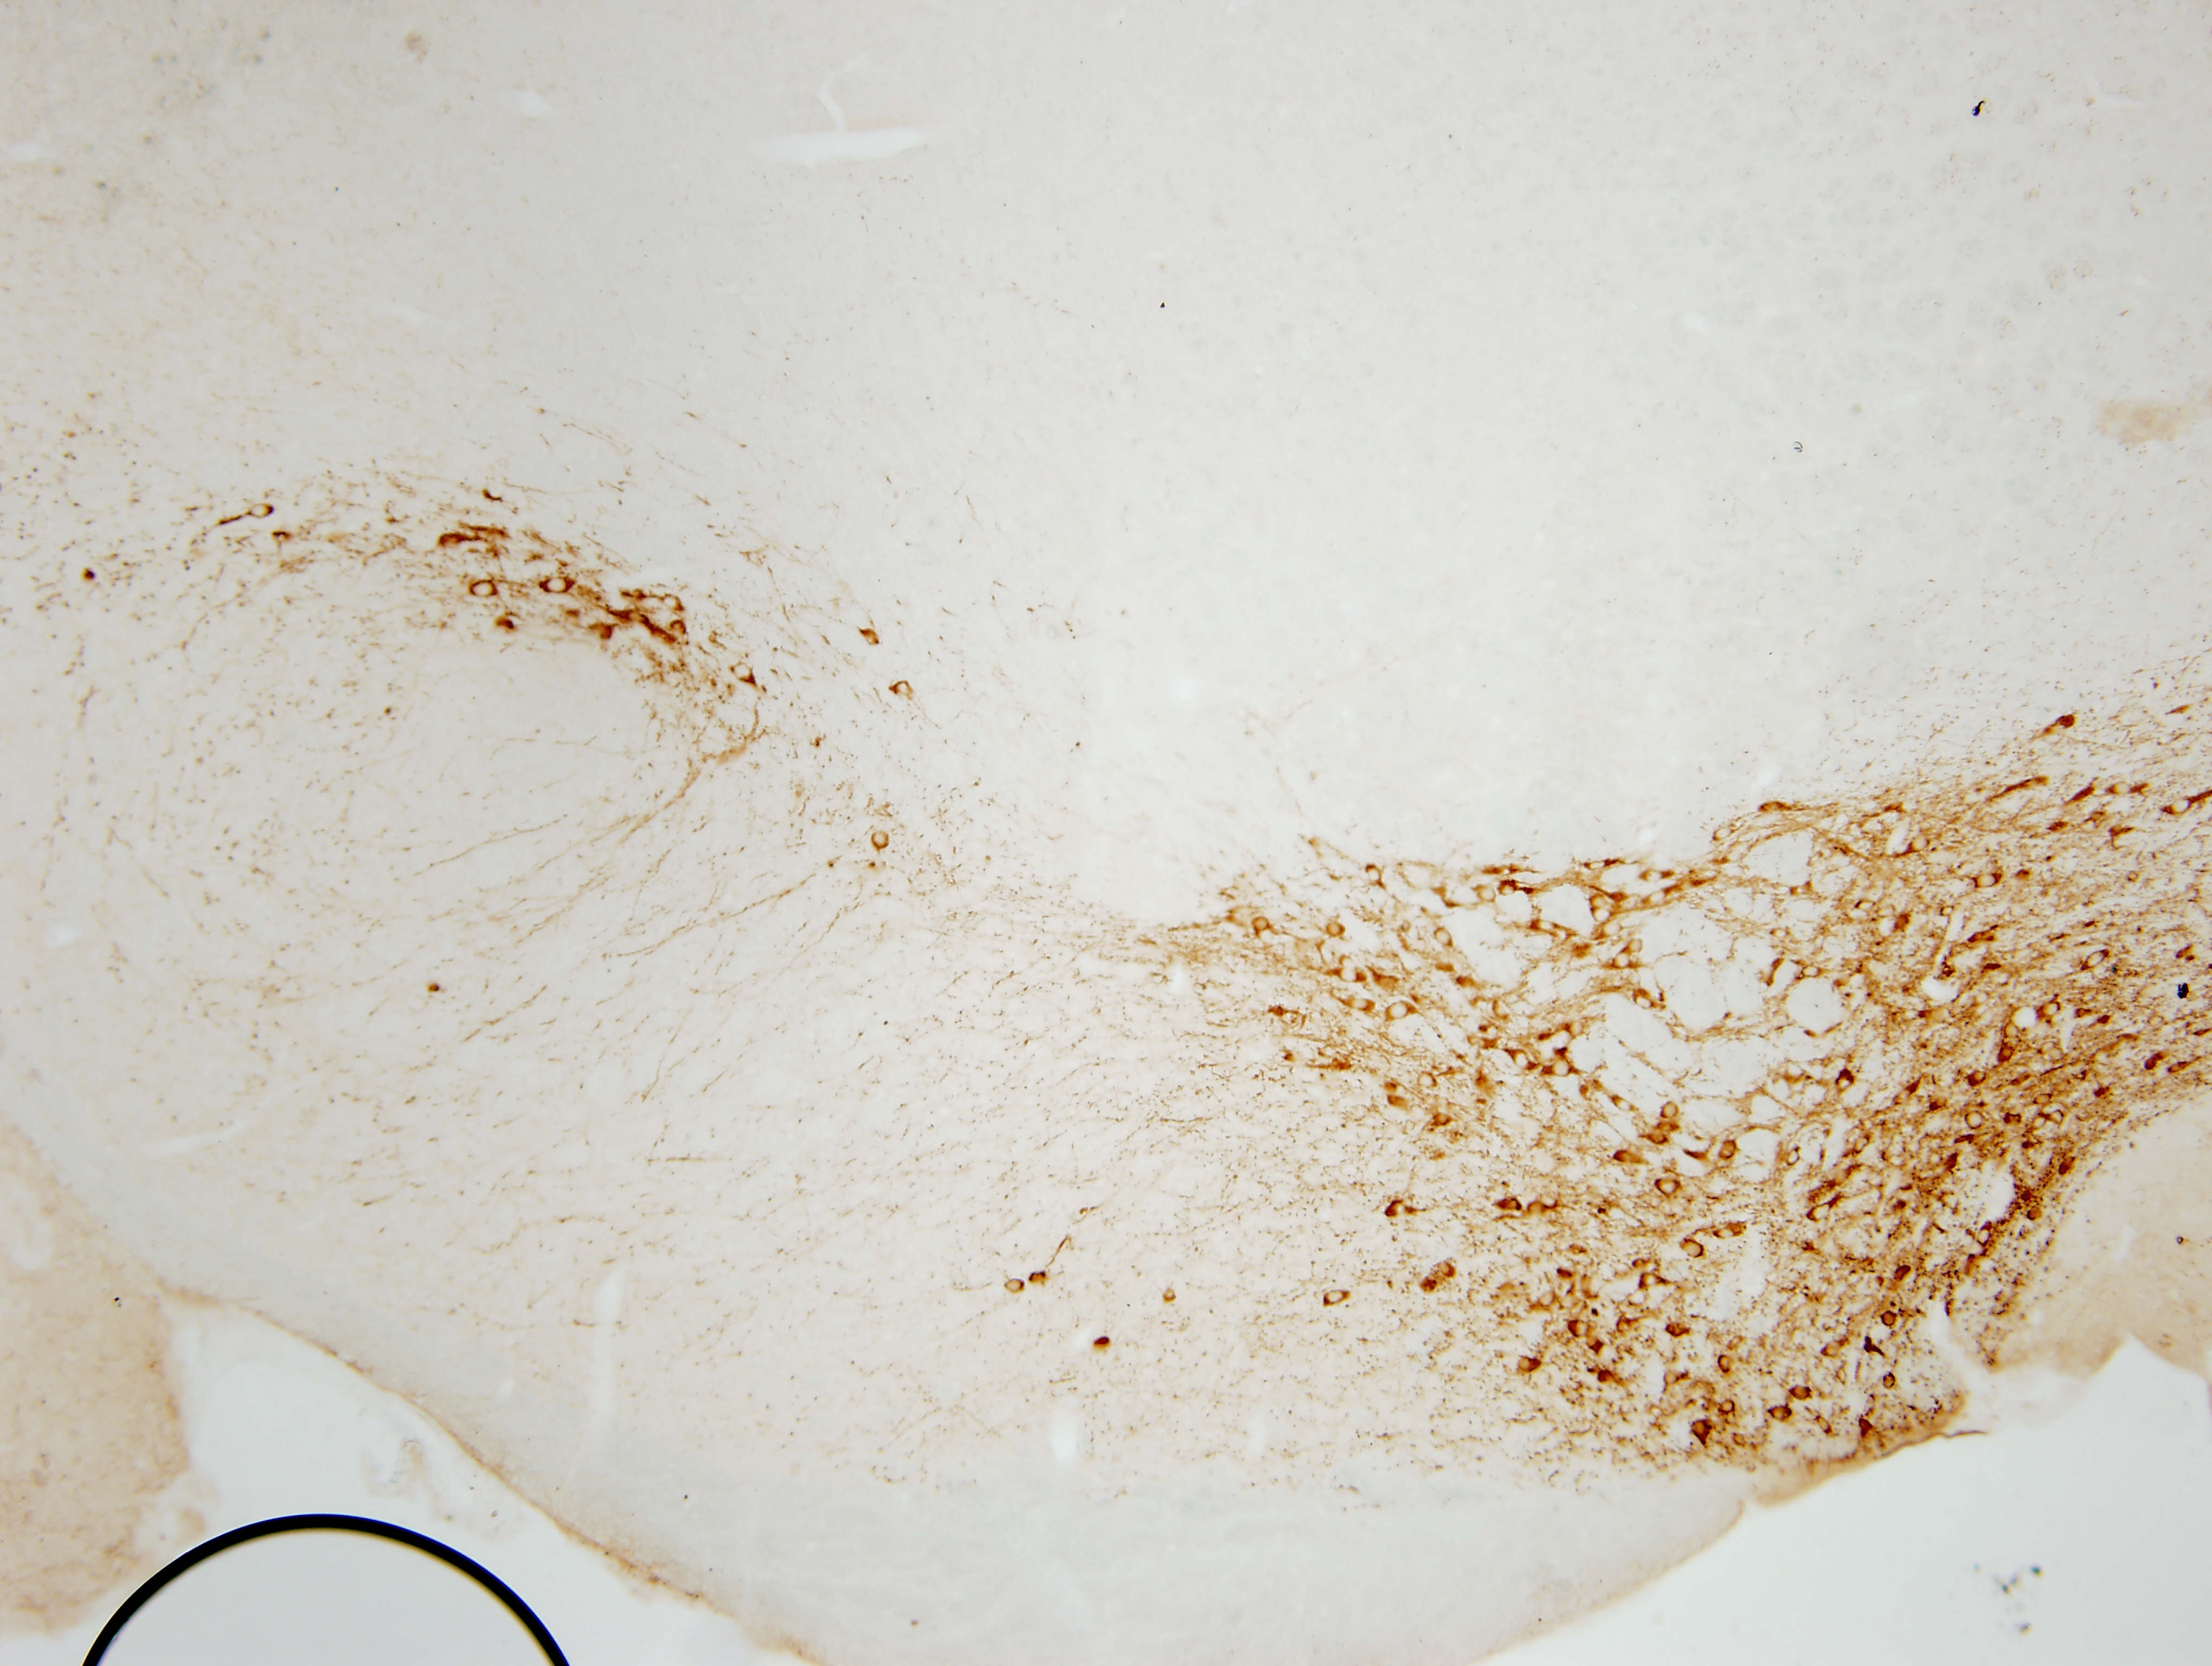neuron: (542, 567, 575, 600), (661, 590, 687, 616), (731, 660, 757, 686), (869, 826, 895, 852), (890, 676, 916, 702), (1002, 1274, 1028, 1300), (1249, 912, 1275, 938), (1324, 917, 1350, 943), (1364, 863, 1390, 889), (1387, 999, 1413, 1026), (1430, 924, 1457, 950), (1509, 1046, 1535, 1073), (1600, 915, 1626, 941), (1645, 886, 1672, 912), (1656, 1174, 1682, 1200), (1715, 1218, 1742, 1244), (1798, 959, 1824, 985), (1808, 1199, 1834, 1225), (1972, 1223, 1999, 1249), (1972, 866, 1999, 893), (2039, 996, 2065, 1022), (2081, 947, 2107, 973), (472, 578, 498, 604), (1324, 1285, 1350, 1309), (1346, 991, 1373, 1015), (1549, 1054, 1574, 1080), (1633, 991, 1659, 1015), (2109, 773, 2135, 798), (2170, 793, 2195, 819), (252, 497, 276, 523), (1680, 1237, 1705, 1262), (1479, 884, 1499, 905), (1535, 915, 1556, 935), (1588, 854, 1607, 875), (1612, 950, 1633, 970), (1614, 1094, 1633, 1115), (1813, 1416, 1834, 1435), (1880, 1370, 1899, 1391), (2049, 1106, 2069, 1127), (1163, 1288, 1182, 1307), (1339, 968, 1359, 987), (1339, 954, 1359, 973), (1418, 1071, 1437, 1090), (1499, 878, 1518, 898), (1516, 1355, 1535, 1374), (1555, 924, 1574, 943), (1569, 1020, 1588, 1039), (1572, 1318, 1591, 1337), (1593, 905, 1612, 924), (1626, 936, 1645, 956), (1640, 1258, 1659, 1278), (1640, 1270, 1659, 1290), (1645, 868, 1665, 887), (1661, 1101, 1680, 1120), (1714, 823, 1733, 842), (1717, 1355, 1736, 1374), (1719, 1398, 1738, 1418), (1771, 1403, 1791, 1423), (1785, 1148, 1805, 1167), (1792, 1384, 1812, 1403), (1836, 1073, 1855, 1092), (1855, 894, 1875, 914), (1880, 1311, 1899, 1330), (1939, 901, 1958, 921), (1965, 1111, 1985, 1130), (1969, 1067, 1988, 1087), (1997, 1045, 2016, 1064), (2004, 1020, 2023, 1039), (2030, 1113, 2049, 1132), (2035, 1090, 2055, 1109), (2081, 1087, 2100, 1106)
